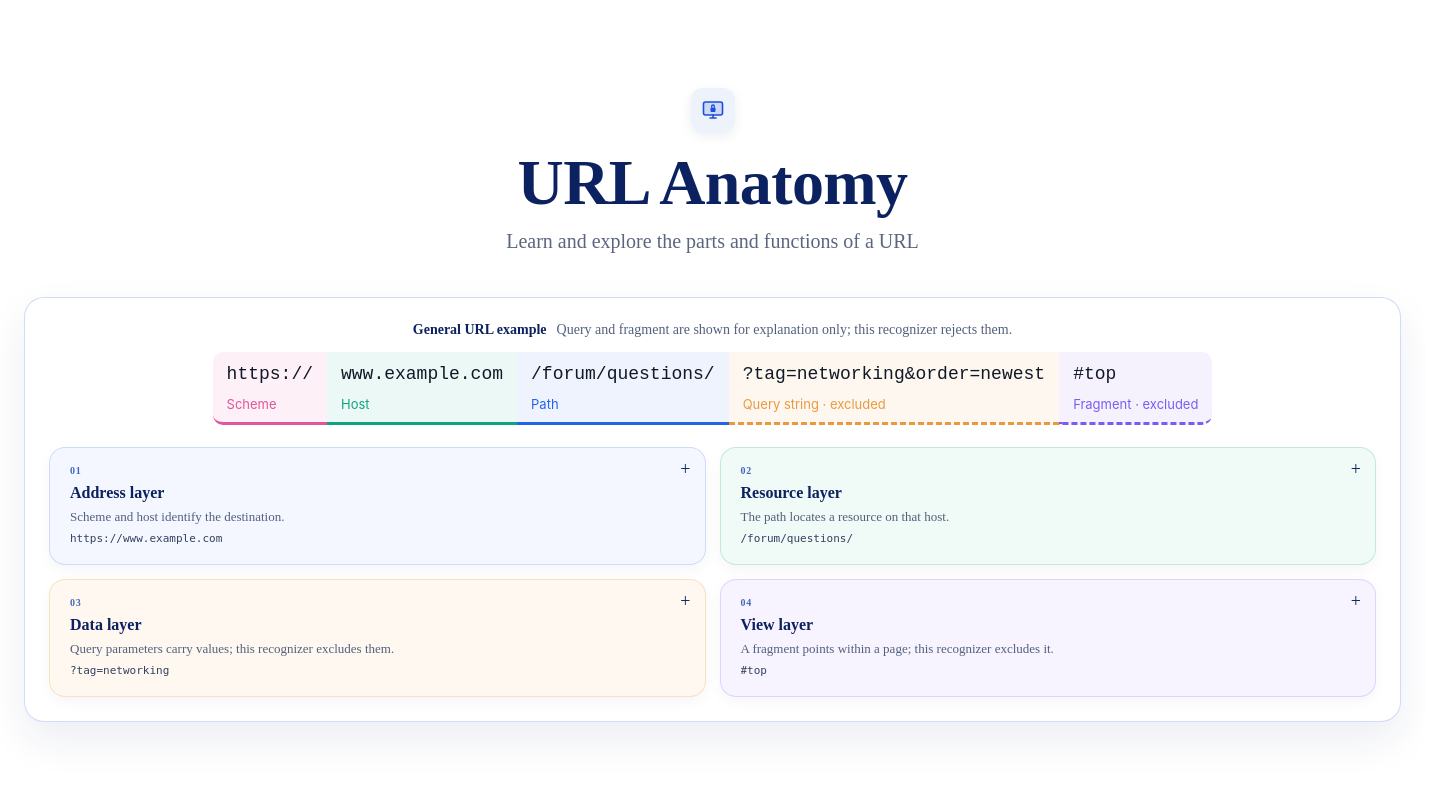
Scenario: keeps card controls in place and toggles one accessible explanation at a time
(page scrolled)
Click the button "01 Address". click: (117, 492)
box: [50, 448, 704, 564]
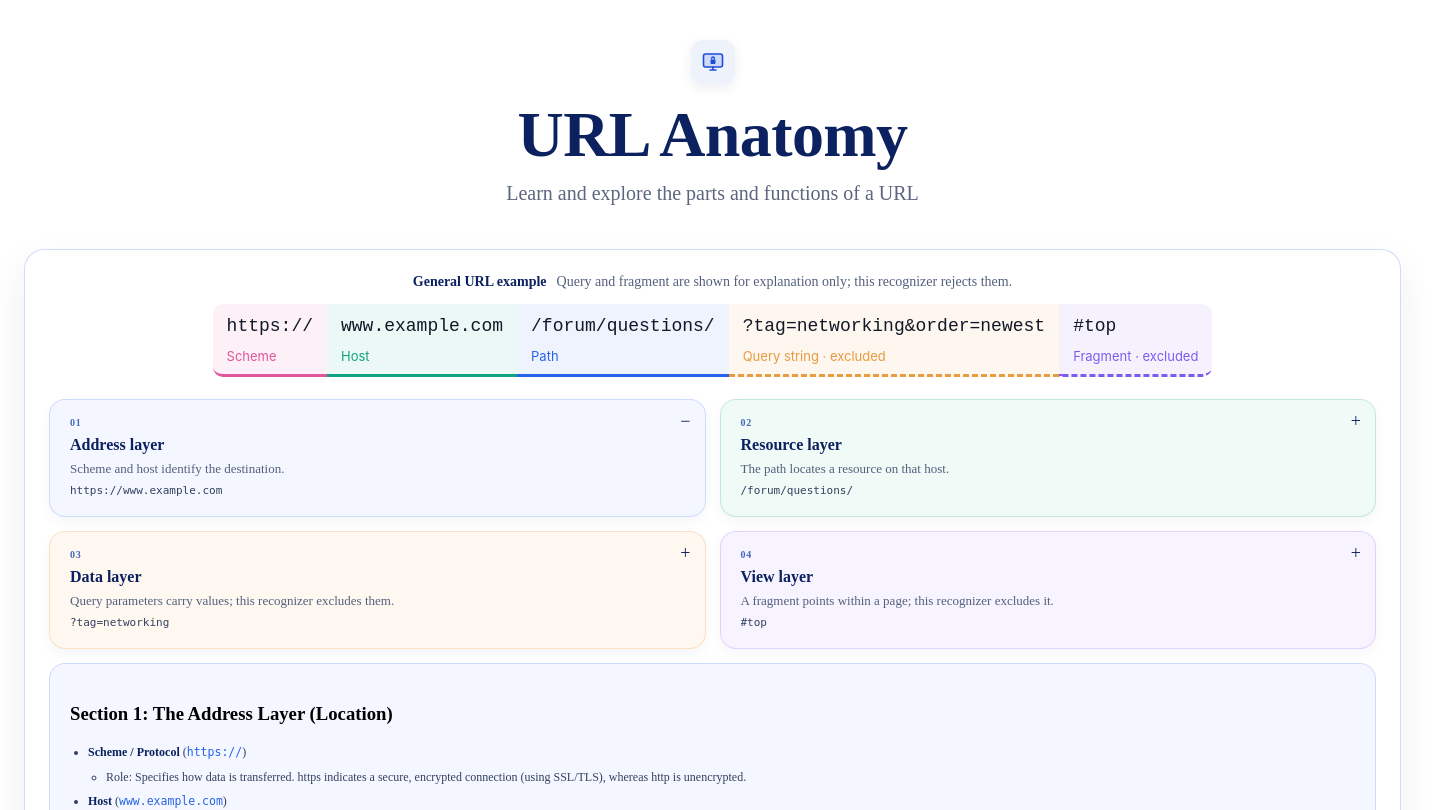
Check: the button "01 Address" is expanded, box [50, 400, 704, 516]
Click the button "02 Resource". click: (791, 444)
box: [720, 400, 1375, 516]
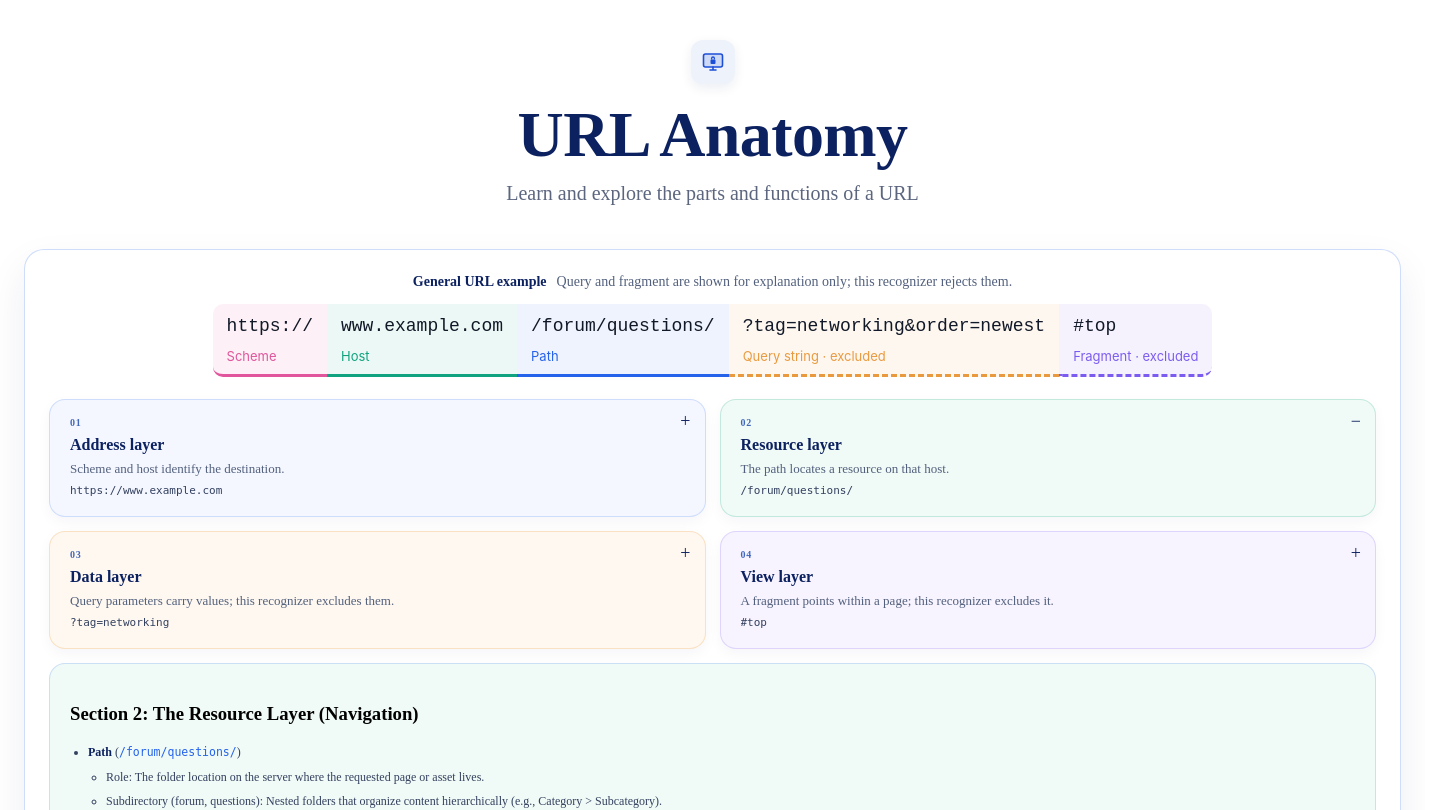
Check: the button "01 Address" is collapsed, box [50, 400, 704, 516]
Check: the button "02 Resource" is expanded
Click the button "02 Resource". click: (791, 444)
box: [720, 400, 1375, 516]
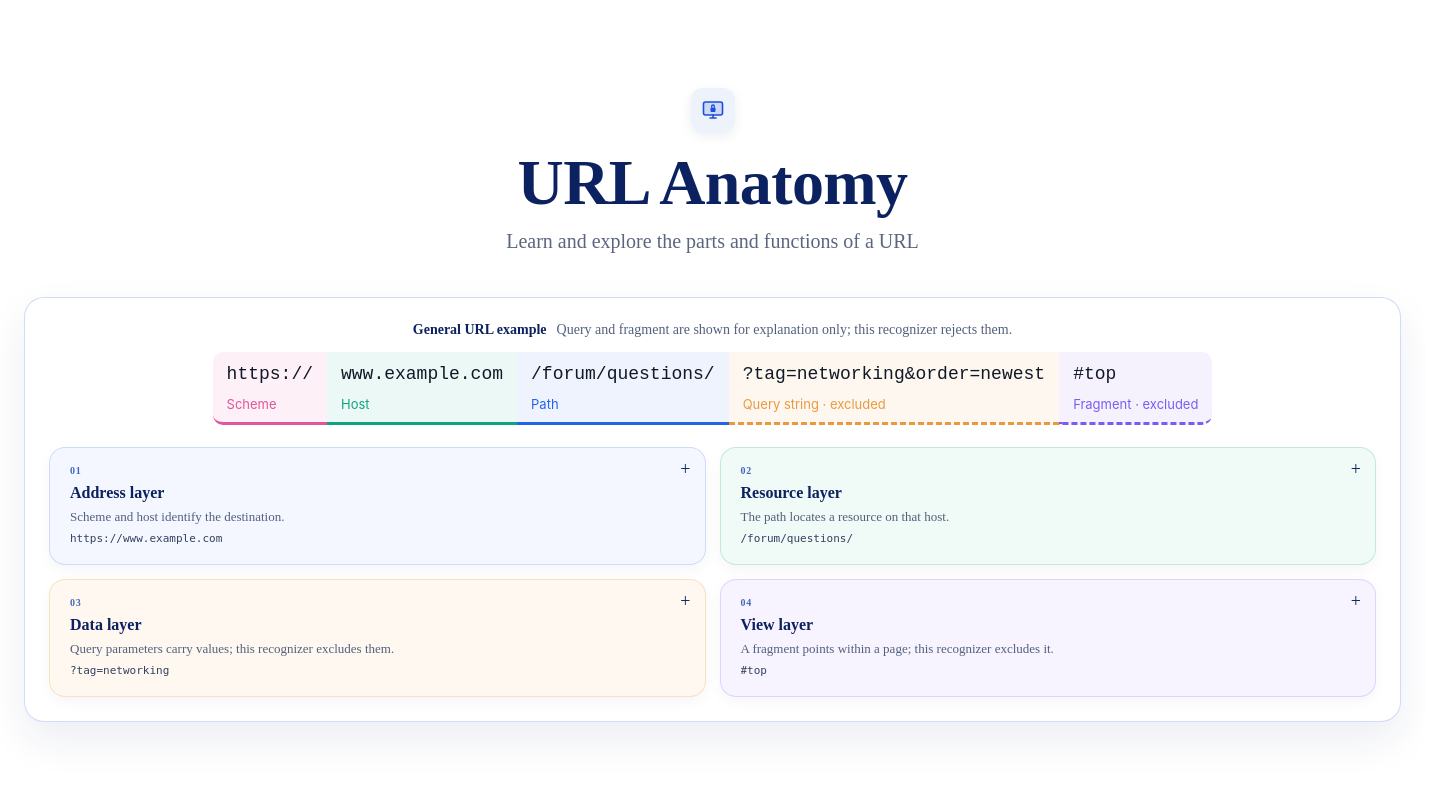
Check: the button "02 Resource" is collapsed, box [720, 448, 1375, 564]
